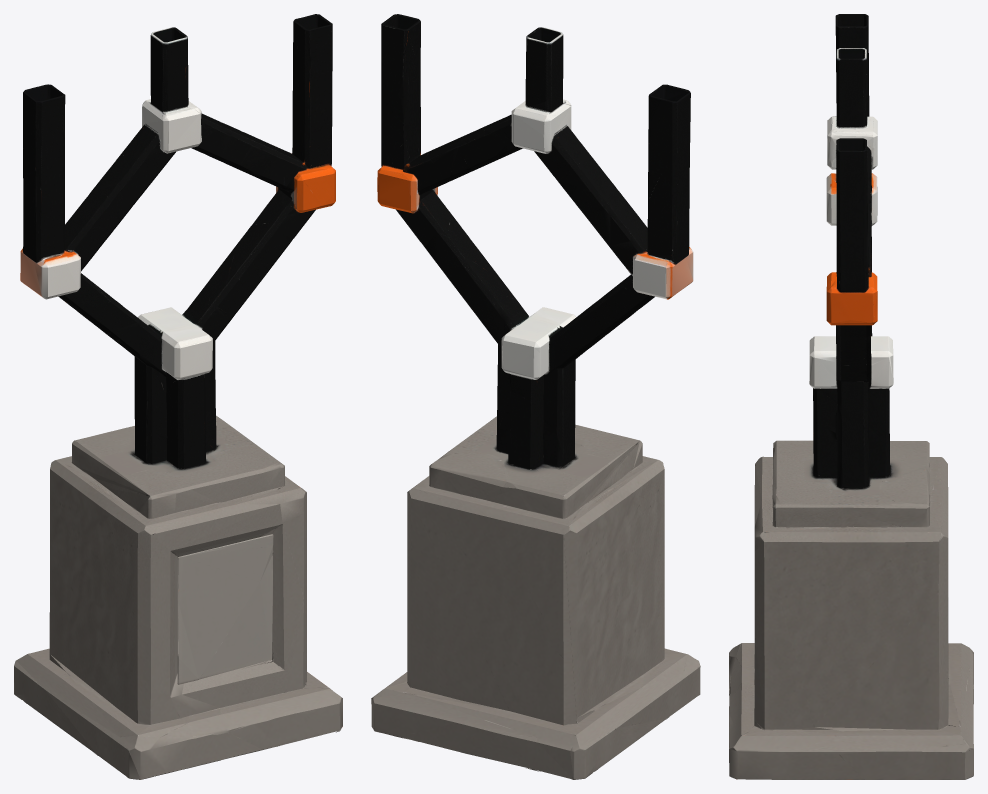
File: github.glb
3 views of the same model, side by side, from view 1: azimuth 30°, elevation 25°; view 2: azimuth 150°, elevation 25°; view 3: azimuth 270°, elevation 25° (orthographic).
Bounding box in the file's own units: 0.873 × 1.9 × 0.6292.
1 material, 1 textured.
